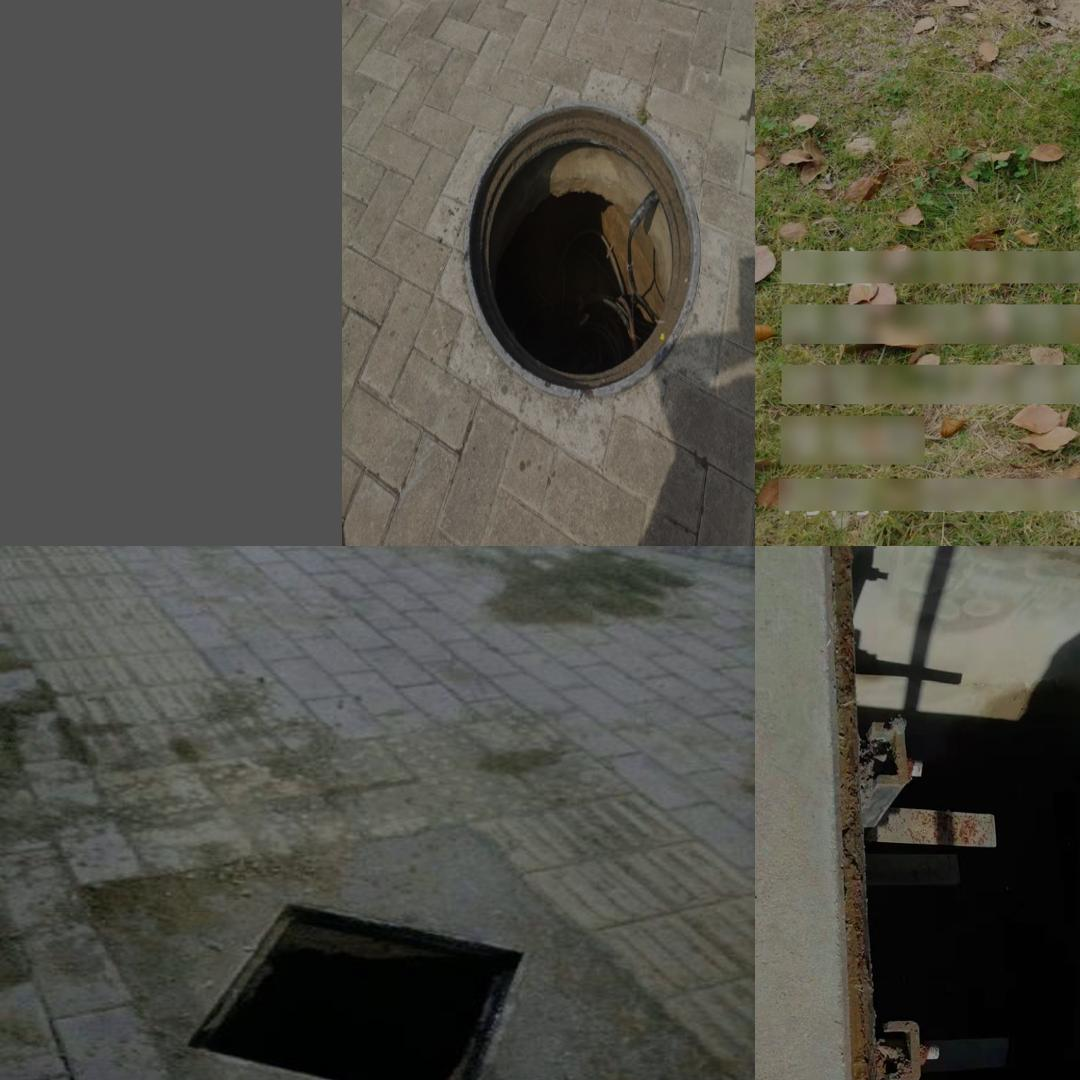lose: (827, 546, 1080, 1080), (83, 901, 542, 1080), (463, 100, 701, 396)
